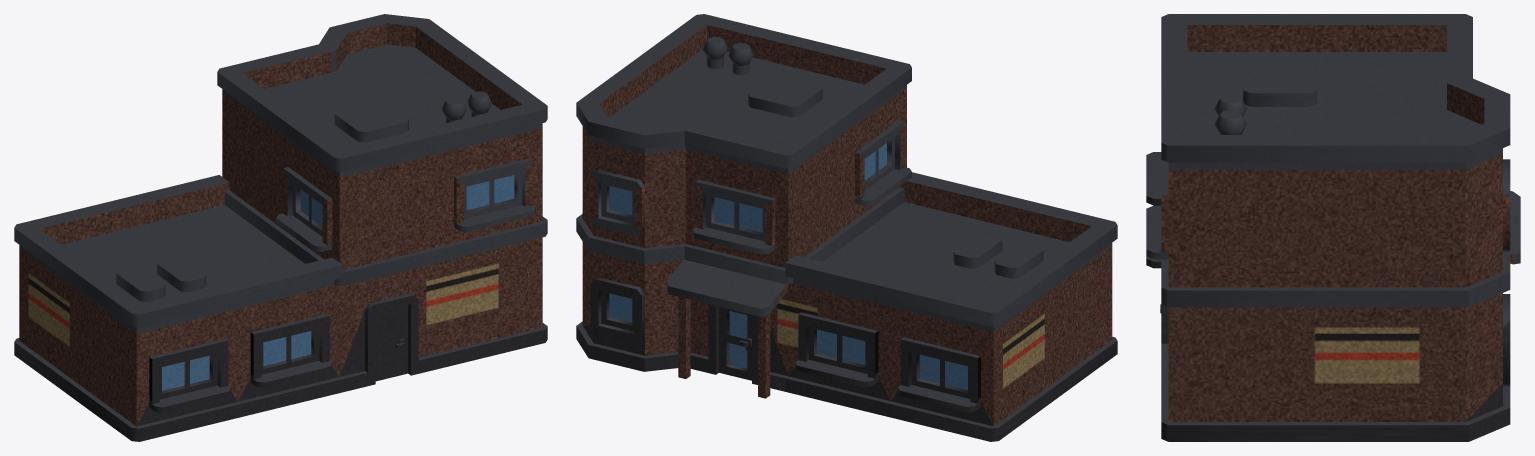
The model's file is building-e-brown-scuffed.glb.
3 renders of one model, left to right at view 1: azimuth 30°, elevation 25°; view 2: azimuth 150°, elevation 25°; view 3: azimuth 270°, elevation 25°, orthographic. The views are drawn at different scales.
Parts seen in each view (by area): view 1: building-e-brown-scuffed; view 2: building-e-brown-scuffed; view 3: building-e-brown-scuffed.
Part boxes in pixels (bbox=[...]): building-e-brown-scuffed: bbox=[14, 14, 547, 441]; building-e-brown-scuffed: bbox=[576, 14, 1117, 441]; building-e-brown-scuffed: bbox=[1146, 14, 1520, 441].
Size of the model in its own units: 1.64 by 0.893 by 1.01.
Materials: 1 (1 with a texture image).
